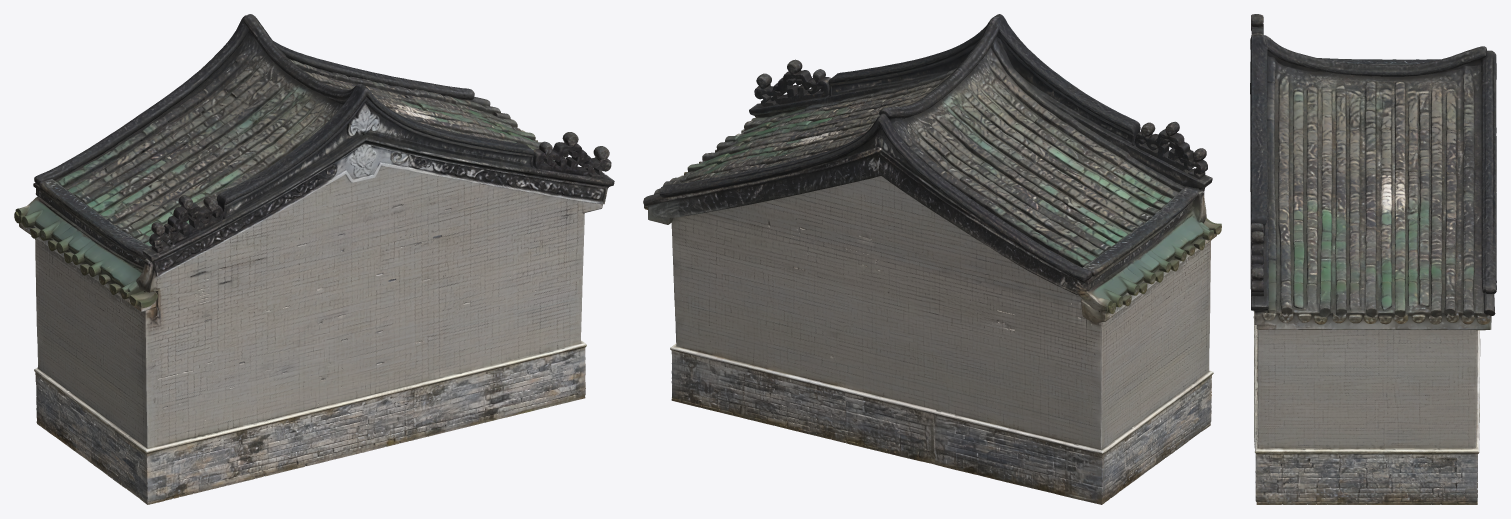
File: gables.glb
3 views of the same model, side by side, from view 1: azimuth 30°, elevation 25°; view 2: azimuth 150°, elevation 25°; view 3: azimuth 270°, elevation 25° (orthographic).
Parts seen in each view (by area): view 1: model; view 2: model; view 3: model.
Boxes of the visible parts, x1=… form: model: x1=14, y1=14, x2=614, y2=504; model: x1=643, y1=14, x2=1221, y2=504; model: x1=1250, y1=14, x2=1496, y2=504.
Size of the model in its own units: 1.9 by 1.38 by 0.8521.
1 material, 1 textured.
